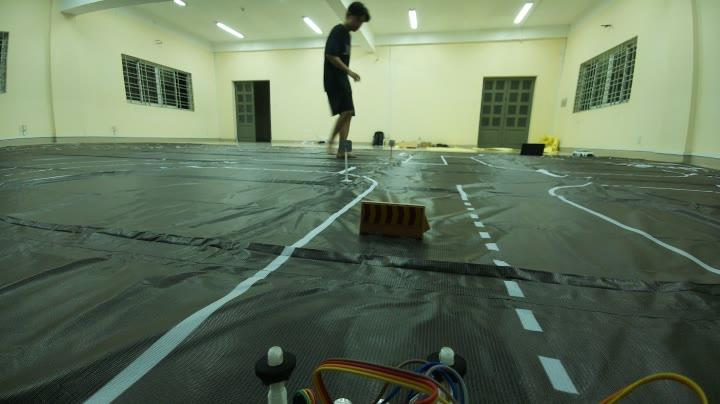roadblock: (354, 189, 439, 249)
